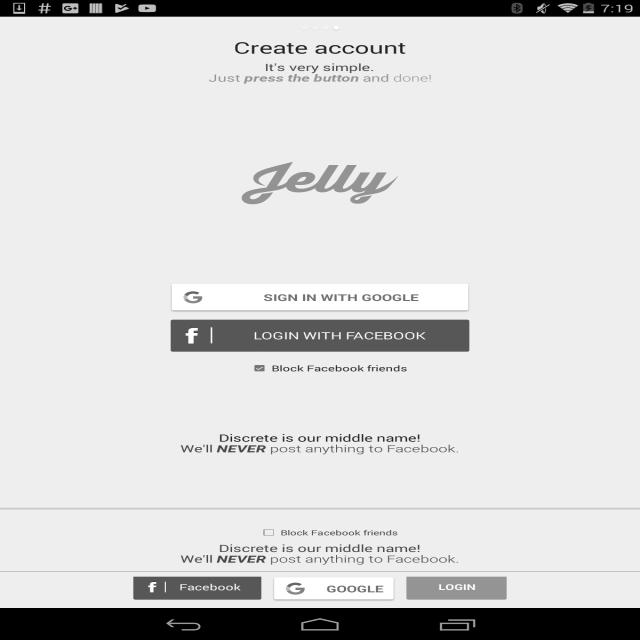Button: (171, 319, 469, 352), (168, 281, 472, 313), (270, 575, 398, 602), (134, 574, 262, 600)
ImageView: (0, 17, 640, 608), (242, 85, 398, 281), (0, 571, 640, 608), (242, 516, 296, 549), (232, 352, 287, 384), (0, 507, 640, 509), (309, 25, 320, 31), (320, 25, 331, 31), (299, 25, 309, 31), (331, 25, 341, 31), (0, 571, 640, 571)
TextView: (180, 552, 459, 566), (233, 37, 406, 58), (180, 442, 459, 455), (208, 71, 432, 85), (218, 431, 420, 445), (218, 541, 420, 555), (406, 574, 507, 600), (264, 60, 375, 74), (272, 362, 408, 373), (280, 528, 398, 537)
